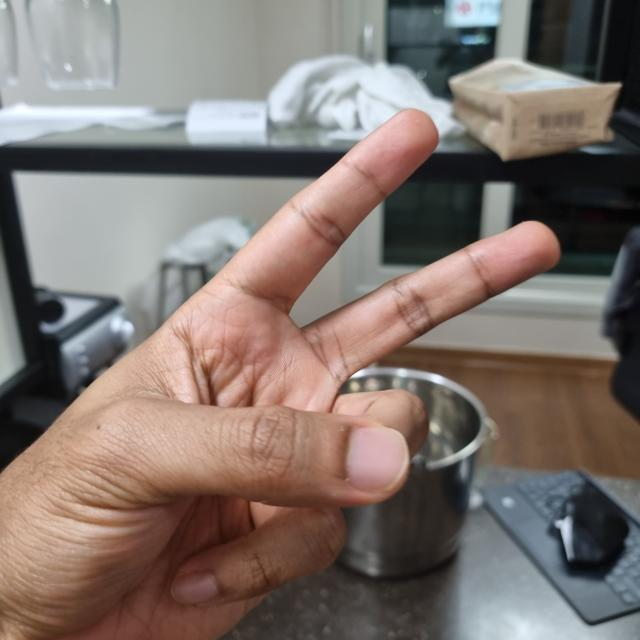Scissors: (2, 109, 557, 638)
